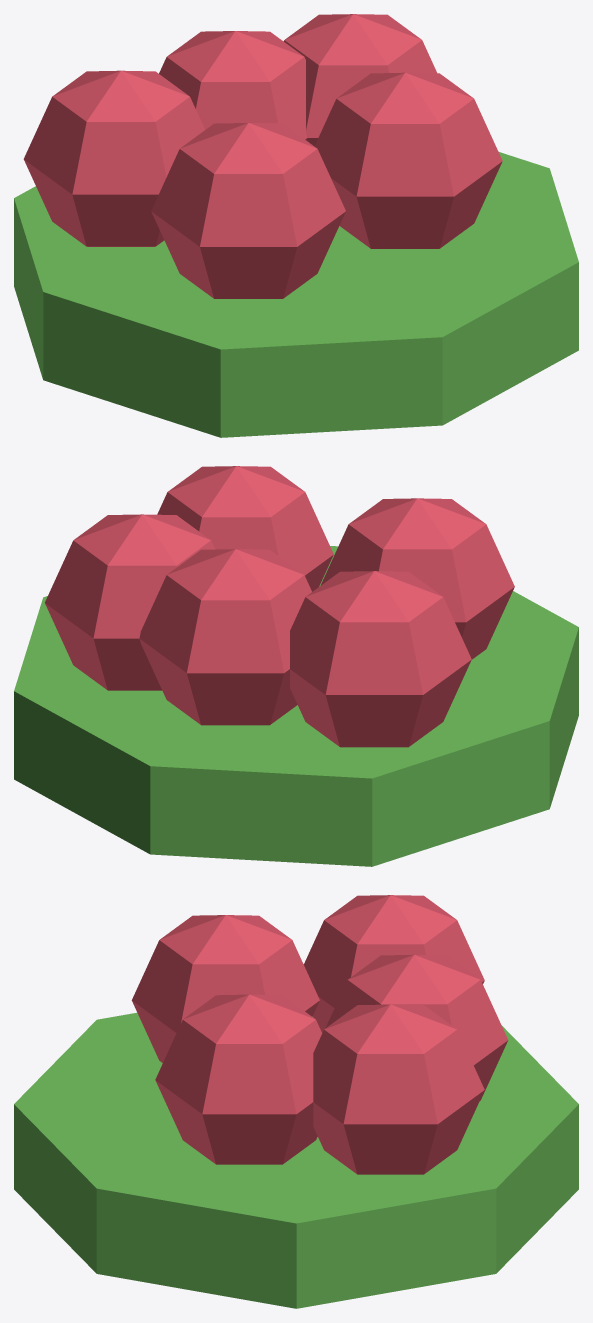
The model's file is jungle_berry.dae.
3 views of the same model, one above another, from view 1: azimuth 30°, elevation 25°; view 2: azimuth 150°, elevation 25°; view 3: azimuth 270°, elevation 25° (orthographic). The views are drawn at different scales.
Parts seen in each view (by area): view 1: Cylinder, Sphere, Sphere.001, Sphere.003, Sphere.002, Sphere.004; view 2: Cylinder, Sphere.003, Sphere.002, Sphere.004, Sphere, Sphere.001; view 3: Cylinder, Sphere.004, Sphere.001, Sphere, Sphere.003, Sphere.002.
Boxes of the visible parts, x1,y1,x2,y2 form: Cylinder: [14, 152, 578, 437]; Sphere: [151, 123, 345, 298]; Sphere.001: [314, 72, 502, 248]; Sphere.003: [23, 70, 204, 246]; Sphere.002: [159, 31, 307, 140]; Sphere.004: [283, 14, 436, 146]; Cylinder: [14, 546, 578, 866]; Sphere.003: [290, 571, 471, 747]; Sphere.002: [139, 549, 311, 725]; Sphere.004: [45, 514, 215, 690]; Sphere: [320, 498, 514, 659]; Sphere.001: [157, 466, 333, 591]; Cylinder: [14, 1012, 578, 1308]; Sphere.004: [313, 1004, 484, 1174]; Sphere.001: [155, 994, 322, 1164]; Sphere: [131, 915, 319, 1062]; Sphere.003: [303, 895, 484, 1032]; Sphere.002: [325, 954, 508, 1100].
Bounding box in the file's own units: 24 × 24 × 11.
